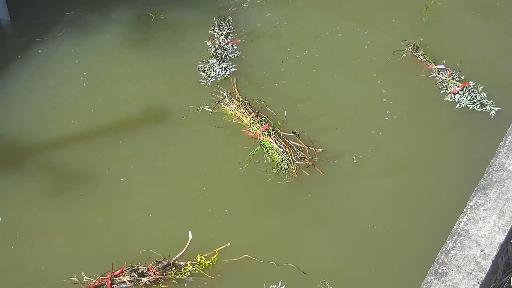leaf: (136, 5, 165, 20)
twig: (208, 74, 364, 202), (75, 239, 349, 288), (389, 30, 512, 129), (190, 11, 259, 83)
